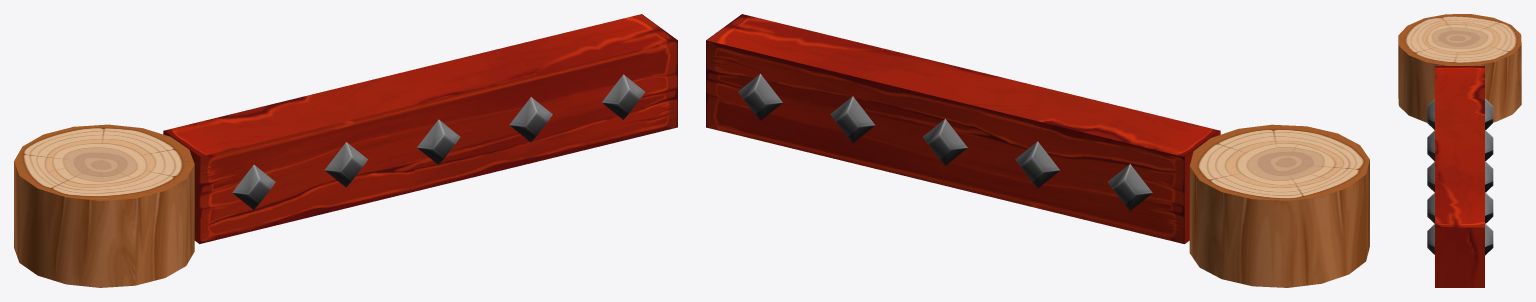
Rendered from one_blade_red_03.fbx.
3 renders of one model, left to right at view 1: azimuth 30°, elevation 25°; view 2: azimuth 150°, elevation 25°; view 3: azimuth 270°, elevation 25°, orthographic. The views are drawn at different scales.
Visible parts, largest first — view 1: Blade_45, wood_center_23; view 2: Blade_45, wood_center_23; view 3: Blade_45, wood_center_23.
Boxes of the visible parts, bbox=[...] form: Blade_45: bbox=[163, 14, 677, 243]; wood_center_23: bbox=[14, 124, 194, 287]; Blade_45: bbox=[706, 14, 1220, 243]; wood_center_23: bbox=[1189, 124, 1369, 287]; Blade_45: bbox=[1427, 66, 1493, 287]; wood_center_23: bbox=[1398, 14, 1521, 122].
Bounding box in the file's own units: 304 × 40 × 74.15.
